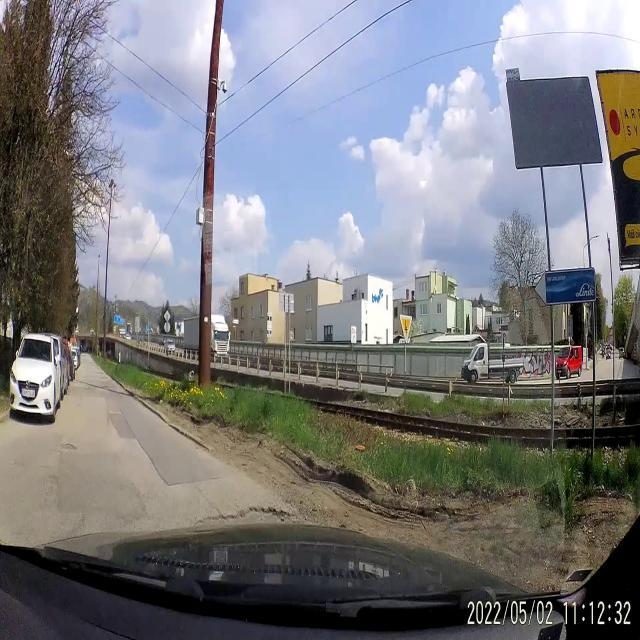Pothole: (192, 499, 286, 521), (58, 436, 82, 456)
